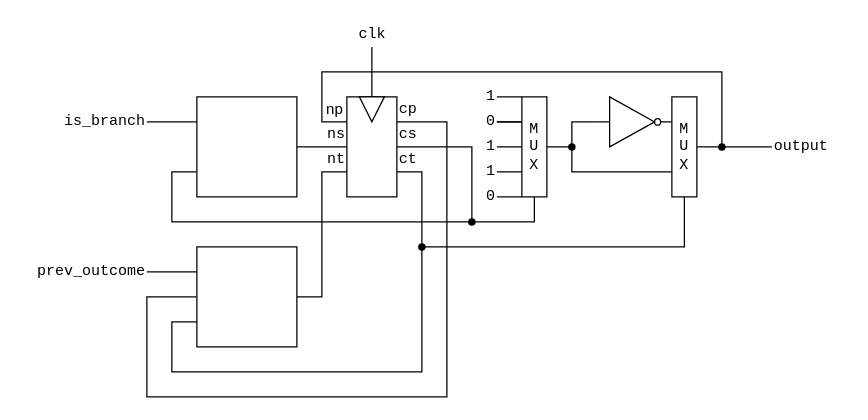
Image size: 868x420. Some labels were removed from this diagram. The shapes that lost their labels are listed below. From the top down, each one's centre as x and y in pixels, then its label:
the point at 246,146: next state logic
the point at 246,296: pattern type logic
